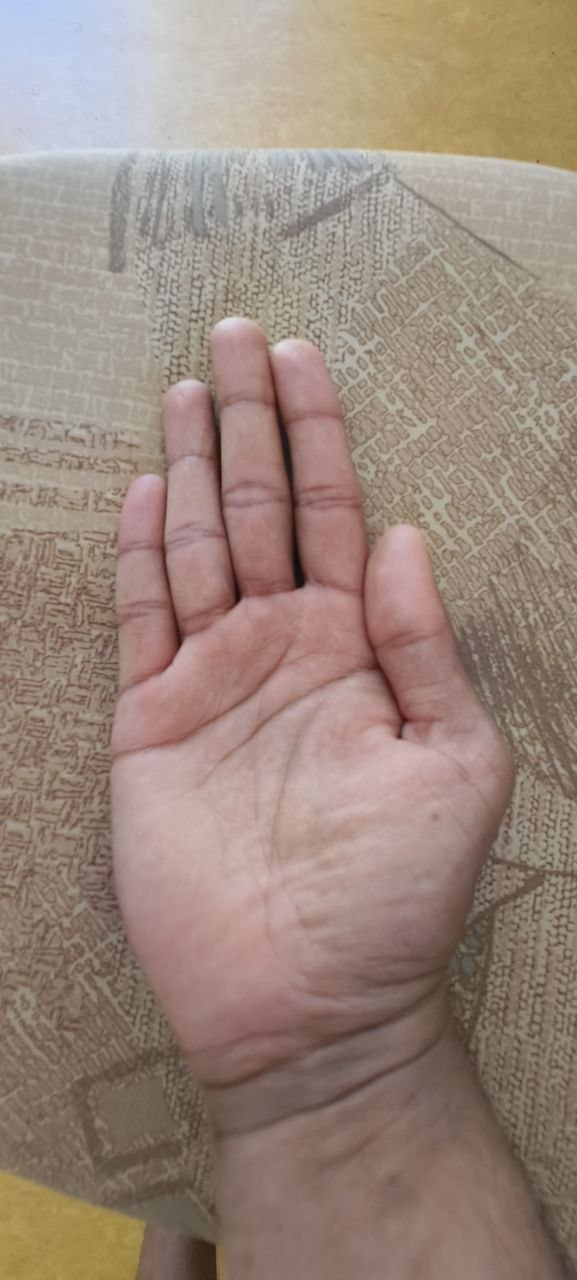Palm: (64, 253, 525, 1113)
